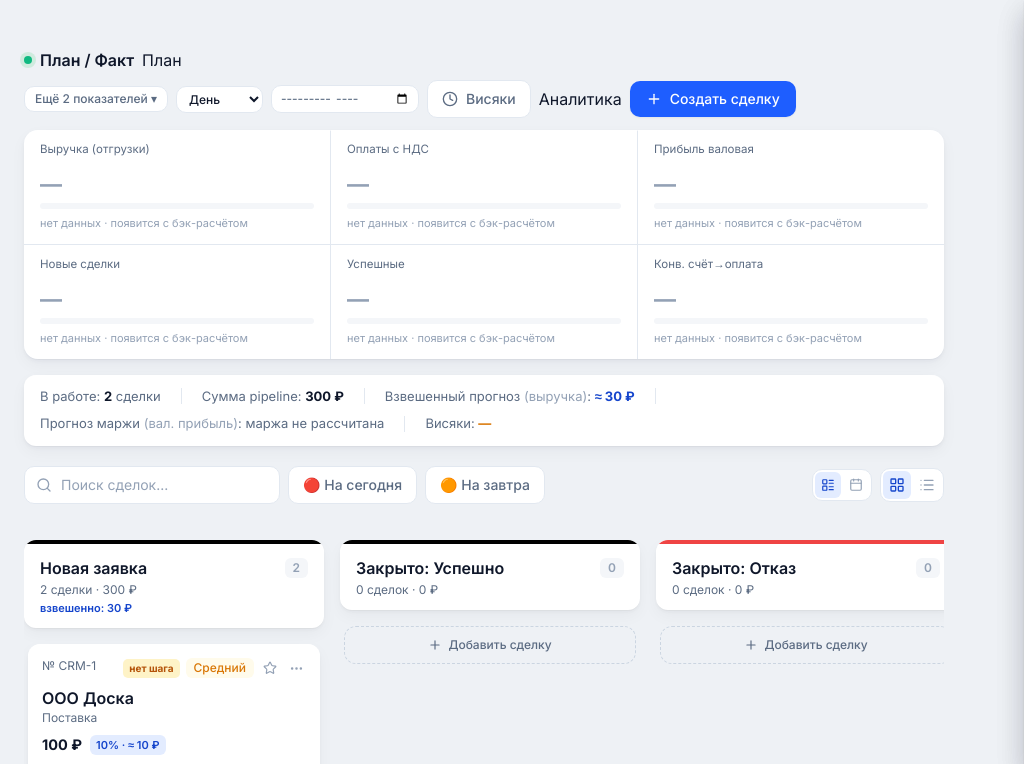
Test: DealsWorkspace (канбан) › чип «На сегодня» фильтрует по дате действия; повторный клик снимает фильтр
The image size is (1024, 764).
Note: у сделки нет next_step_at → бакет «Без даты» → «На сегодня» её скрывает
Click the button "🔴 На сегодня". click: (352, 485)
box: [288,466,417,504]
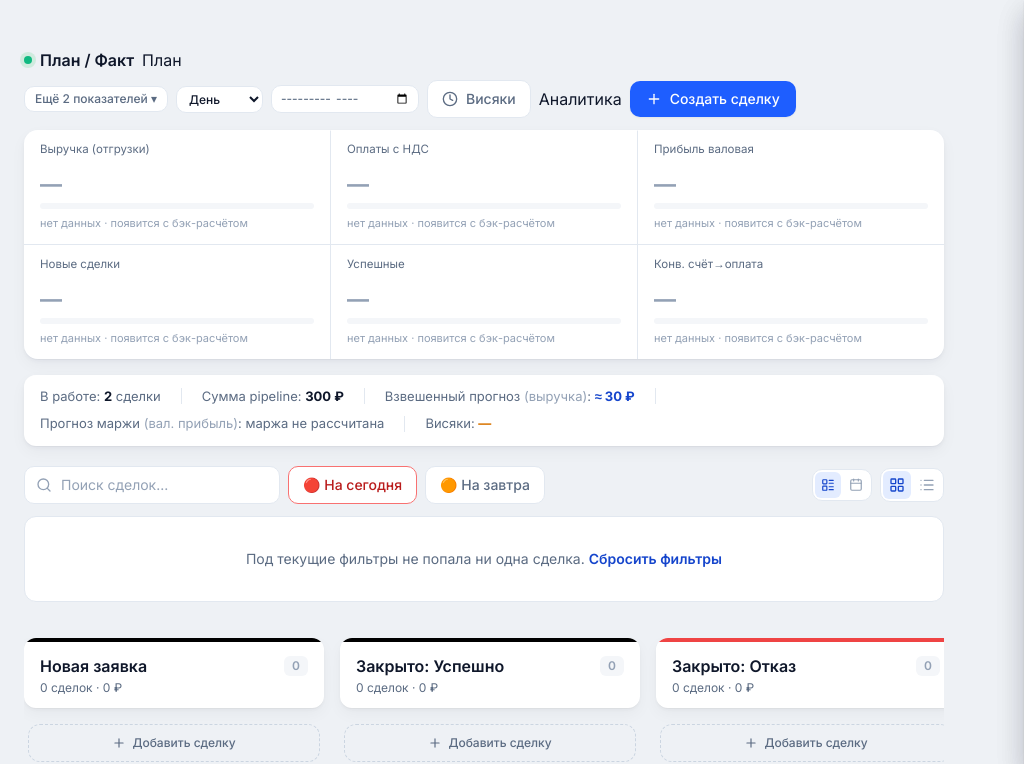
Result: the link "ООО Доска" is gone
Click the button "🔴 На сегодня". click: (352, 485)
box: [288,466,417,504]
(page scrolled)
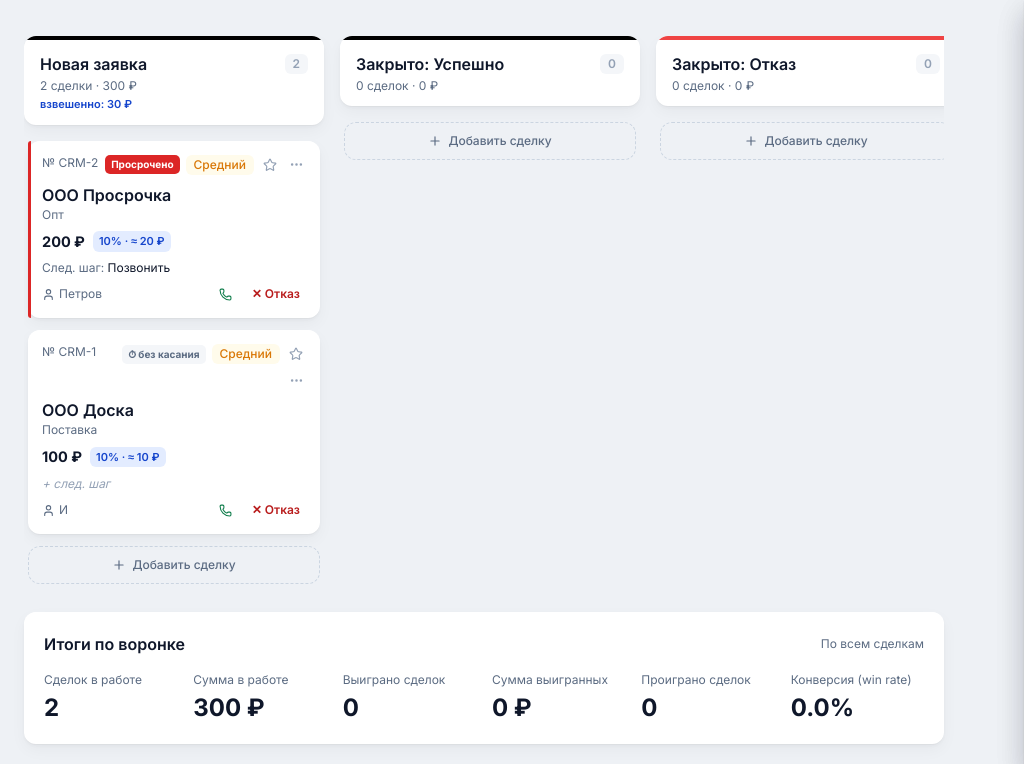
Result: the text "ООО Доска" is shown at [42,400,134,420]
